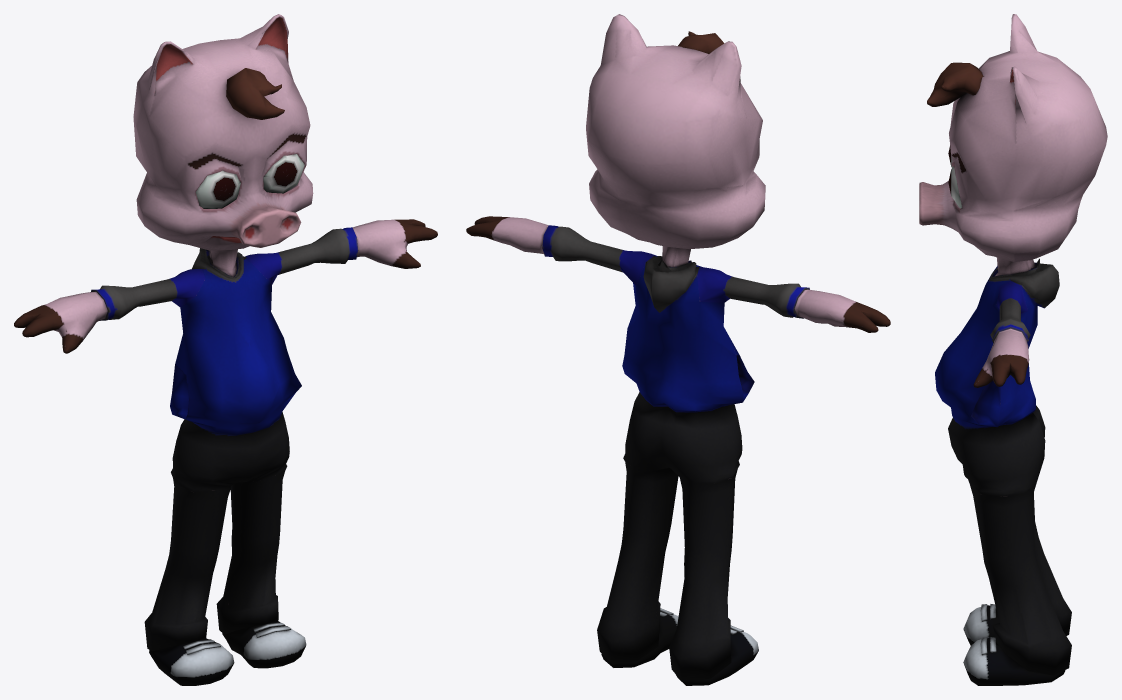
Rendered from 1porquito.fbx.
The picture shows the model from 3 angles, left to right: view 1: azimuth 30°, elevation 25°; view 2: azimuth 150°, elevation 25°; view 3: azimuth 270°, elevation 25°; orthographic projection. The views are drawn at different scales.
Visible parts, largest first — view 1: porquito; view 2: porquito; view 3: porquito.
Part boxes in pixels (x1,y1,x2,y2): porquito: (14,14,437,685); porquito: (466,14,890,685); porquito: (919,14,1107,685).
Size of the model in its own units: 114 by 165 by 45.63.
